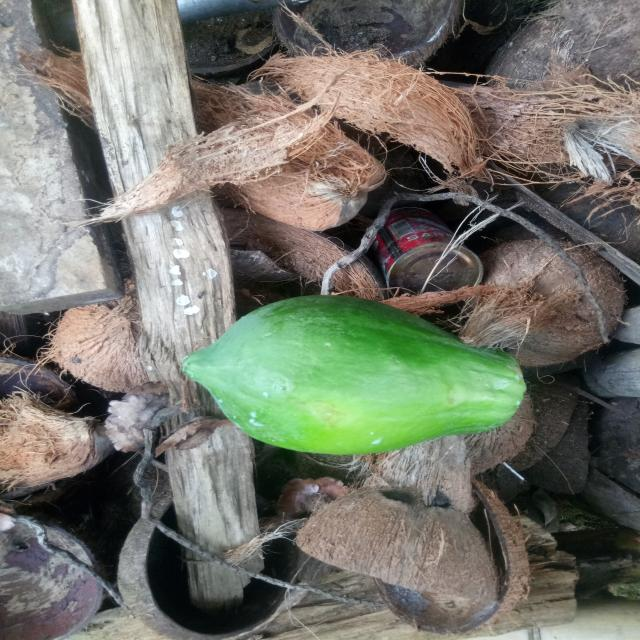Pepaya unrippen: (178, 295, 530, 457)
